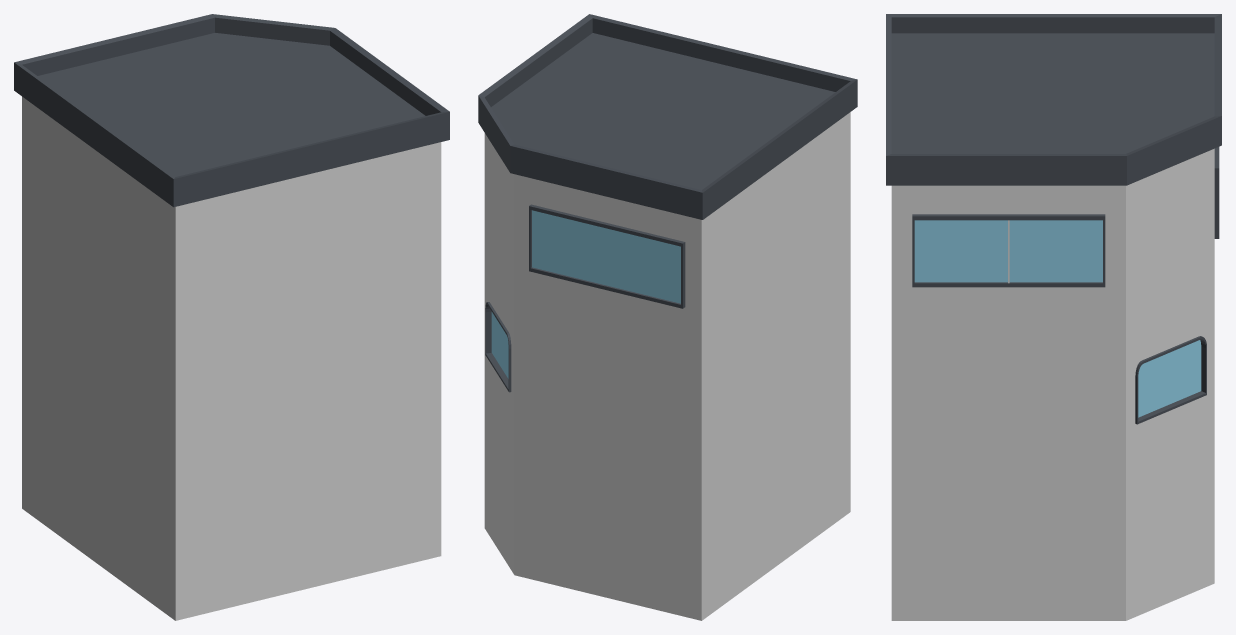
The model's file is PredioHexagonal.fbx.
3 views of the same model, side by side, from view 1: azimuth 30°, elevation 25°; view 2: azimuth 150°, elevation 25°; view 3: azimuth 270°, elevation 25° (orthographic). The views are drawn at different scales.
Visible parts, largest first — view 1: PredioHexagonal; view 2: PredioHexagonal; view 3: PredioHexagonal.
Part boxes in pixels (left/top/right/bottom): PredioHexagonal: left=14, top=14, right=449, bottom=620; PredioHexagonal: left=478, top=14, right=857, bottom=620; PredioHexagonal: left=886, top=14, right=1221, bottom=620.
Size of the model in its own units: 1146 by 1762 by 1146.
